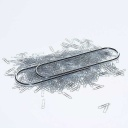Metal: (10, 41, 127, 93)
